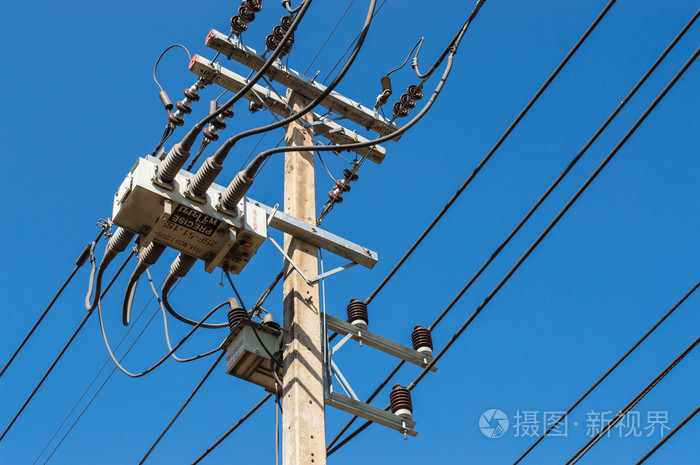insulator: (229, 1, 264, 37), (167, 88, 199, 127), (265, 16, 299, 52), (203, 104, 231, 143), (392, 85, 424, 118), (328, 169, 358, 203)
